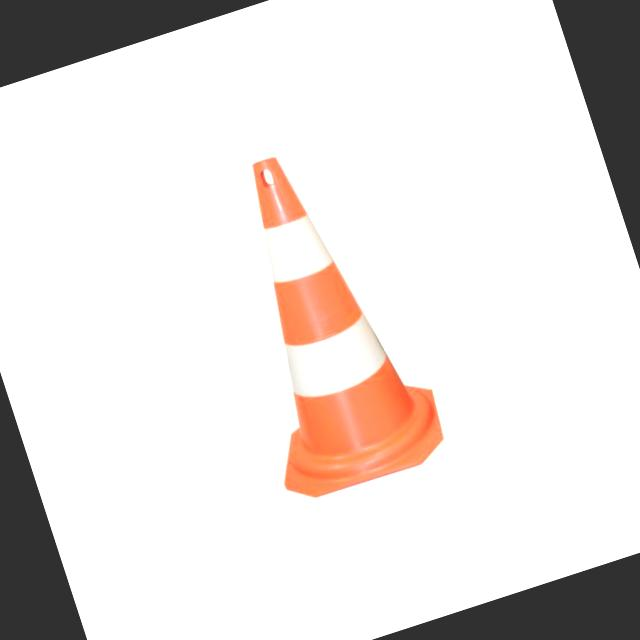cone: (190, 133, 453, 508)
